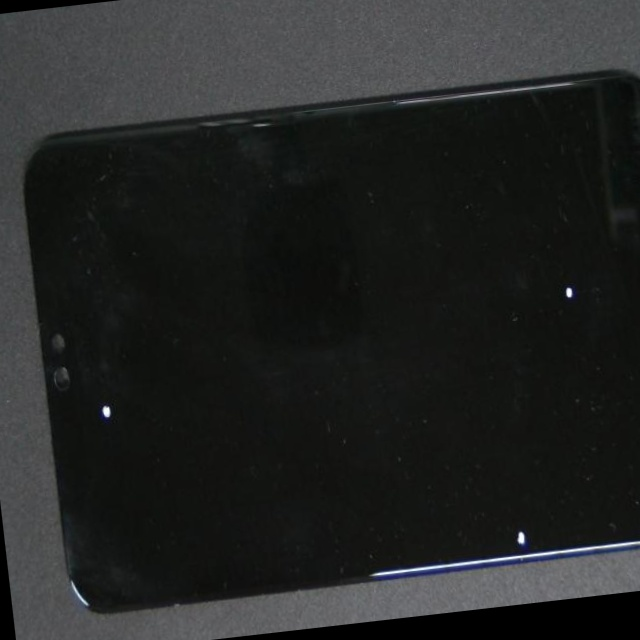stain: (266, 87, 640, 487), (259, 244, 640, 630), (31, 161, 177, 582)
